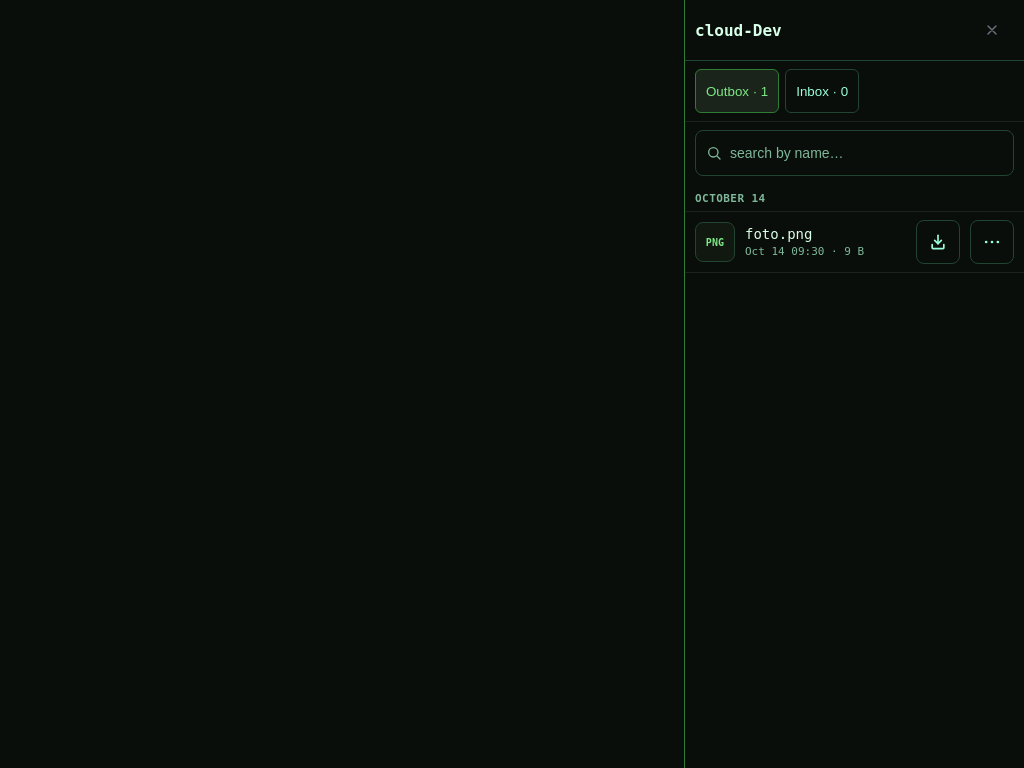
Test case: FilesPanel anteprima nel foglio › window.open che lancia: lo dice e revoca subito l'object URL
Check: the text "foto.png" is shown, box [745,226,812,242]
Click the button titled "file actions" at (992, 242), box [970,220,1014,264]
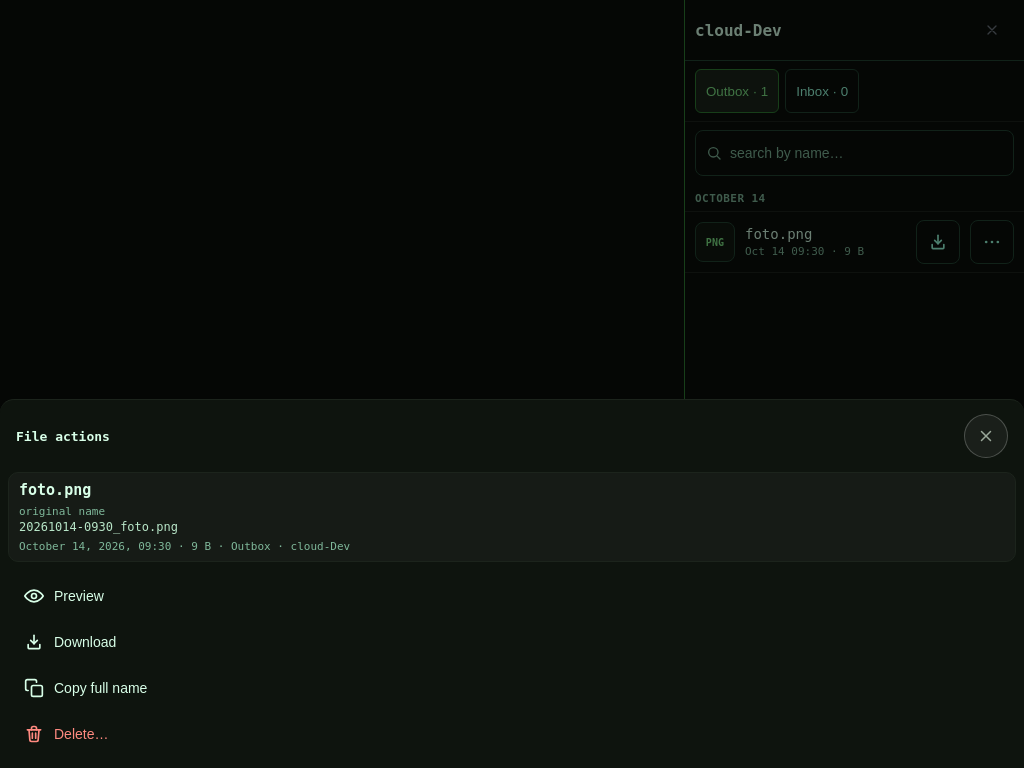
Click the menu item "Preview" at (79, 596), box [12,574,1012,618]
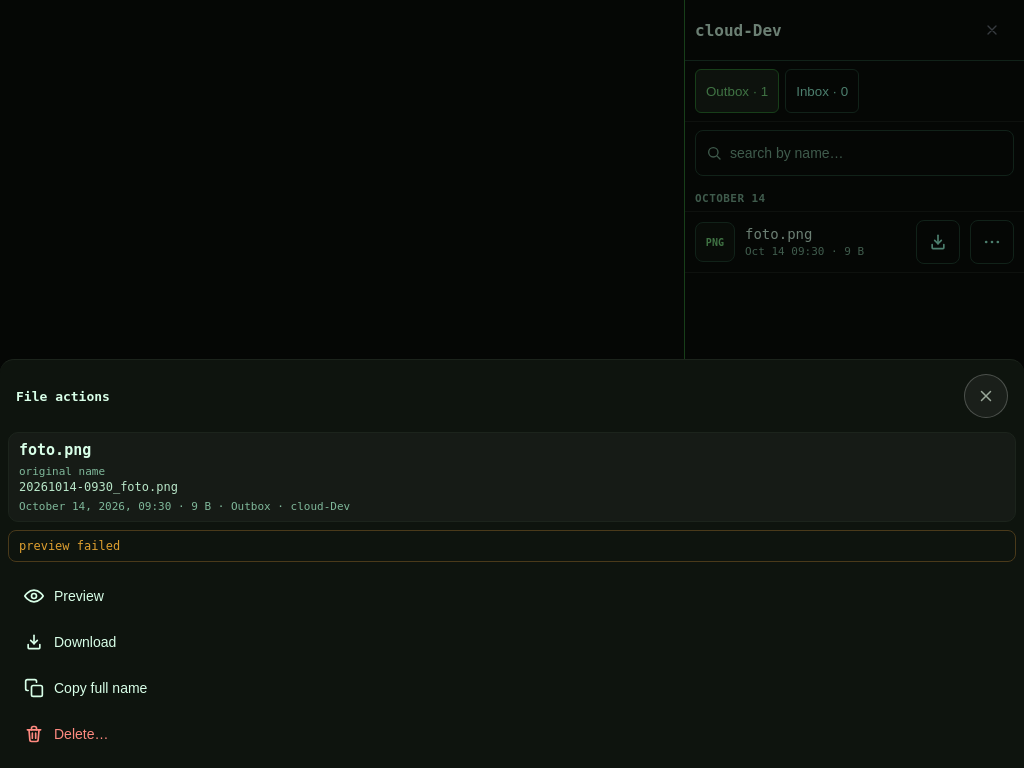
Check: the text "preview failed" is shown, box [8,530,1016,562]
